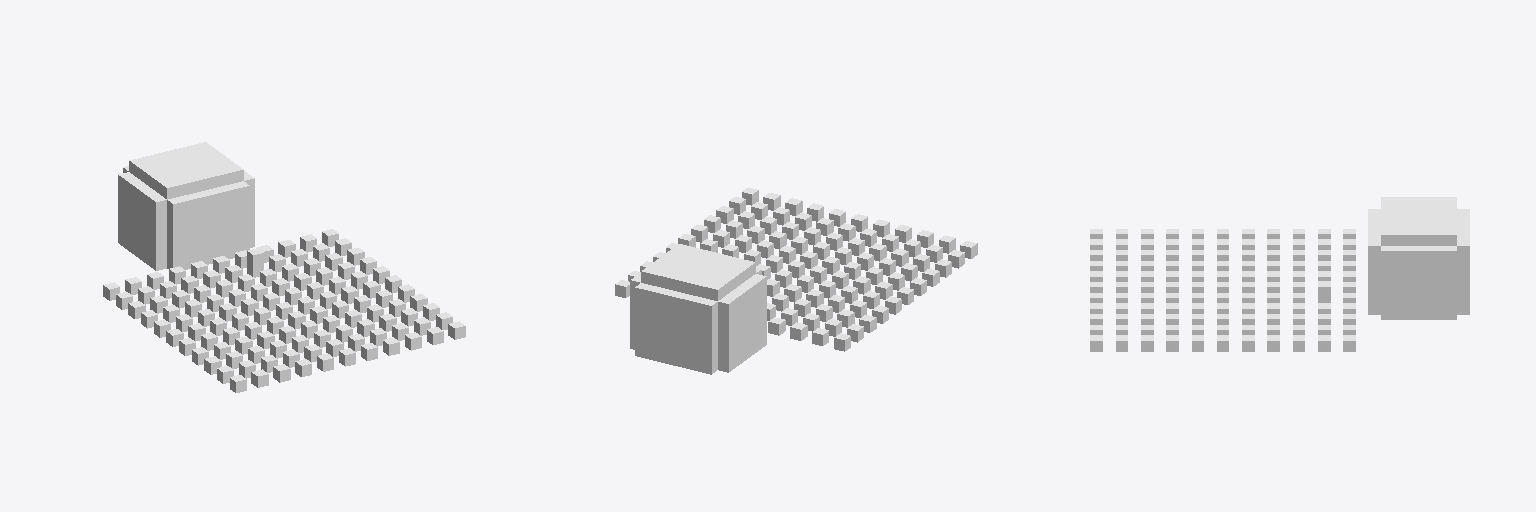
File: civilization.obj
3 renders of one model, left to right at view 1: azimuth 30°, elevation 25°; view 2: azimuth 150°, elevation 25°; view 3: azimuth 270°, elevation 25°, orthographic.
Visible parts, largest first — view 1: CIVILIZATION__110_-45_35_to_132_319_67; view 2: CIVILIZATION__110_-45_35_to_132_319_67; view 3: CIVILIZATION__110_-45_35_to_132_319_67.
Part boxes in pixels (x1,y1,x2,y2): CIVILIZATION__110_-45_35_to_132_319_67: (103, 142, 465, 392); CIVILIZATION__110_-45_35_to_132_319_67: (615, 187, 977, 374); CIVILIZATION__110_-45_35_to_132_319_67: (1090, 197, 1469, 351).
Size of the model in its own units: 21 by 7 by 30.